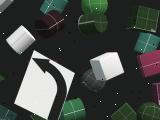Left: (14, 50, 75, 120)
